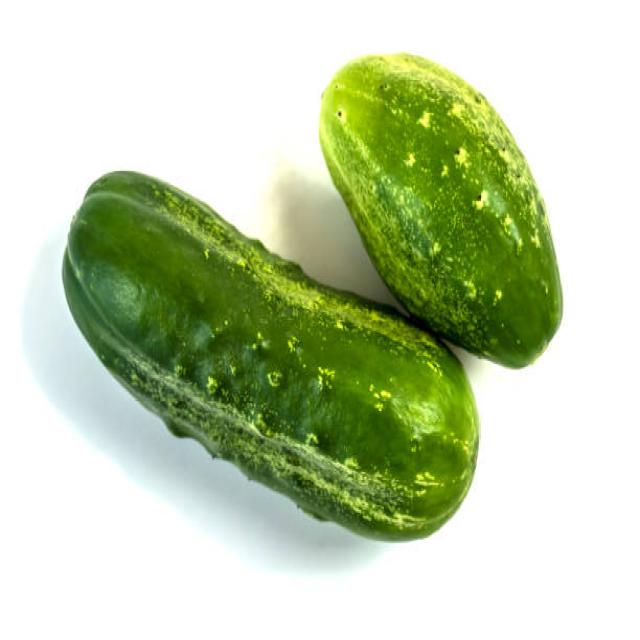cucumber: (62, 165, 480, 540), (318, 49, 562, 369)
